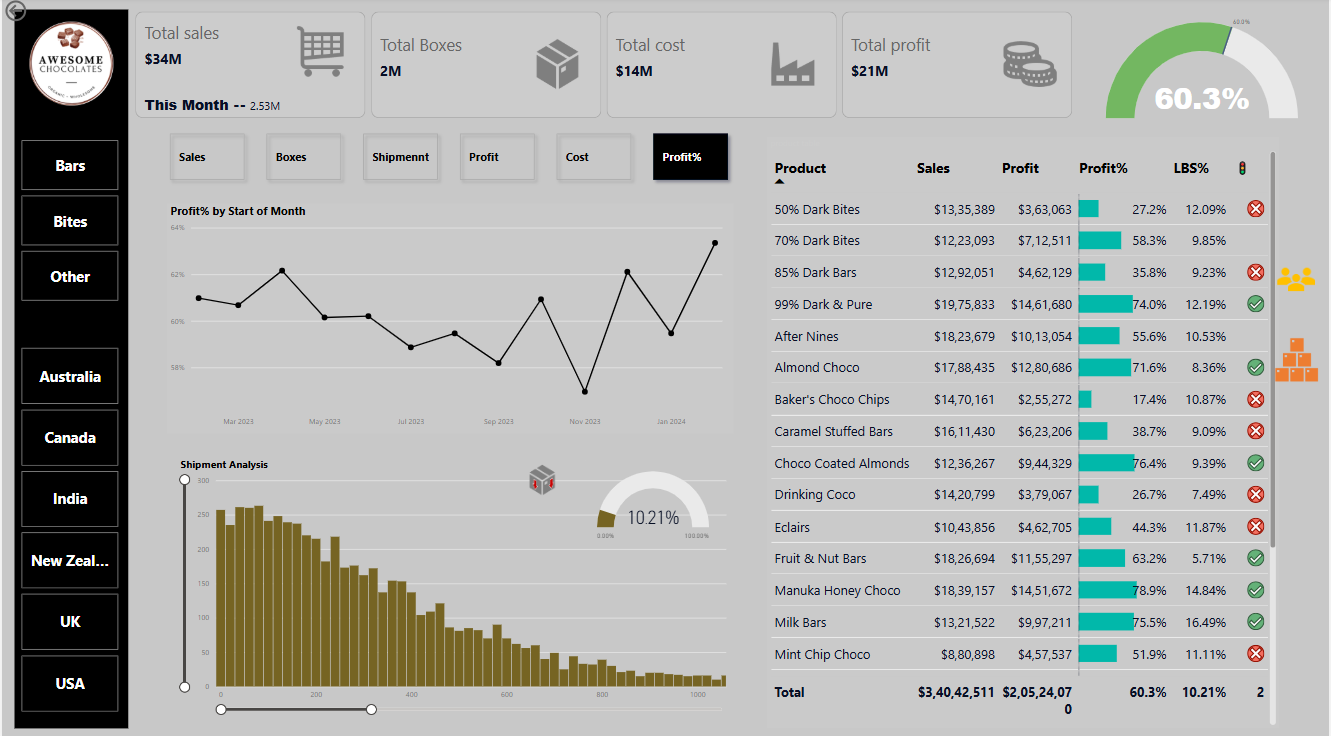

This screenshot's page, from the dashboard's own definition file:
{"tool":"powerbi","page":{"name":"Sales Report","canvas":[1920,1080],"ordinal":0},"visuals":[{"type":"shape","box":[17.6,17.6,164.7,1041.2],"z":0},{"type":"cardVisual","fields":{"Data":["Measures (2).Total sales","Measures (2).Total Boxes","Measures (2).Total cost","Measures (2).Total profit"]},"box":[188.2,15.7,1368.6,164.7],"z":1000},{"type":"gauge","fields":{"Y":["Measures (2).Profit%"]},"box":[1556.3,18.1,361.9,162.9],"z":2000},{"type":"image","box":[17.6,31.4,164.7,131.4],"z":3000},{"type":"lineChart","fields":{"Y":["Measures (2).Profit%"],"Category":["calendar.Start of Month"]},"box":[239.2,298,819.6,333.3],"z":4000},{"type":"advancedSlicerVisual","fields":{"Values":["Measure Selector.Measure Selector"]},"box":[225.5,180.4,847.1,102],"z":5000},{"type":"columnChart","title":"Shipment Analysis","fields":{"Category":["shipments.Boxes (bins)"],"Y":["Measures (2).Total Shipmennt"]},"box":[252.9,666.7,805.9,376.5],"z":6000},{"type":"gauge","fields":{"Y":["Measures (2).LBS%"]},"box":[839.2,666.7,205.9,127.5],"z":7000},{"type":"image","box":[743.1,668.6,76.5,62.7],"z":8000},{"type":"actionButton","box":[0,0,100,40],"z":10000},{"type":"tableEx","title":"product table","fields":{"Values":["products.Product","Measures (2).Total sales","Measures (2).Total profit","Measures (2).Profit%","Measures (2).LBS%","Measures (2).Profit Target Indicator"]},"box":[1107.5,202.7,742,856],"z":11000},{"type":"image","title":"people","box":[1829.4,372.5,88.2,72.5],"z":12000},{"type":"image","title":"product","box":[1829.4,478.4,90.2,94.1],"z":13000},{"type":"advancedSlicerVisual","fields":{"Values":["products.Category"]},"box":[23.5,202,151,243.1],"z":14000},{"type":"advancedSlicerVisual","fields":{"Values":["locations.Geo"]},"box":[23.5,503.9,151,539.2],"z":15000}]}

Visuals, with their boxes in screenshot pixels (x1, y1, x2, y2), scaled from the page's 1920x1080 canvas onto the 1331x736 screenshot:
shape: 12/12/126/722
cardVisual - Measures (2).Total sales x Measures (2).Total Boxes: 130/11/1079/123
gauge - Measures (2).Profit%: 1079/12/1330/123
image: 12/21/126/111
lineChart - Measures (2).Profit% x calendar.Start of Month: 166/203/734/430
advancedSlicerVisual - Measure Selector.Measure Selector: 156/123/744/192
"Shipment Analysis" columnChart: 175/454/734/711
gauge - Measures (2).LBS%: 582/454/724/541
image: 515/456/568/498
actionButton: 0/0/69/27
"product table" tableEx: 768/138/1282/721
"people" image: 1268/254/1329/303
"product" image: 1268/326/1330/390
advancedSlicerVisual - products.Category: 16/138/121/303
advancedSlicerVisual - locations.Geo: 16/343/121/711
